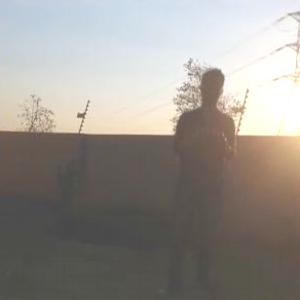follow: (149, 66, 238, 290)
